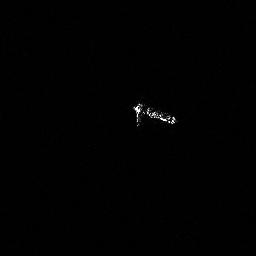ship: (130, 100, 177, 129)
